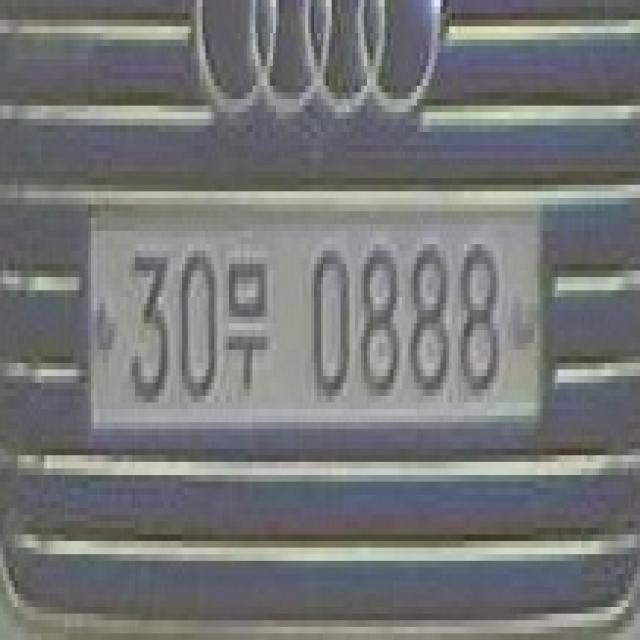0: (179, 244, 220, 396), (312, 237, 349, 396)
3: (129, 250, 173, 402)
8: (408, 238, 452, 402), (455, 237, 499, 396), (358, 244, 399, 403)
license_plate: (82, 184, 555, 448)
mu: (223, 258, 270, 390)
